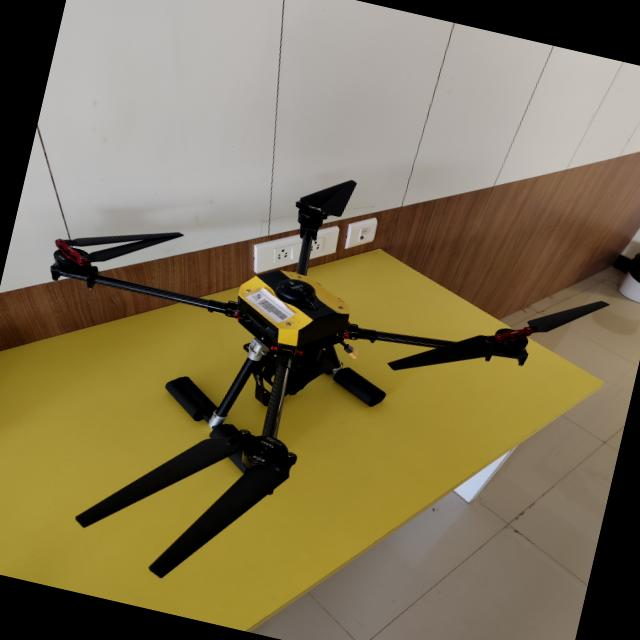quadcopter: (0, 111, 629, 640)
